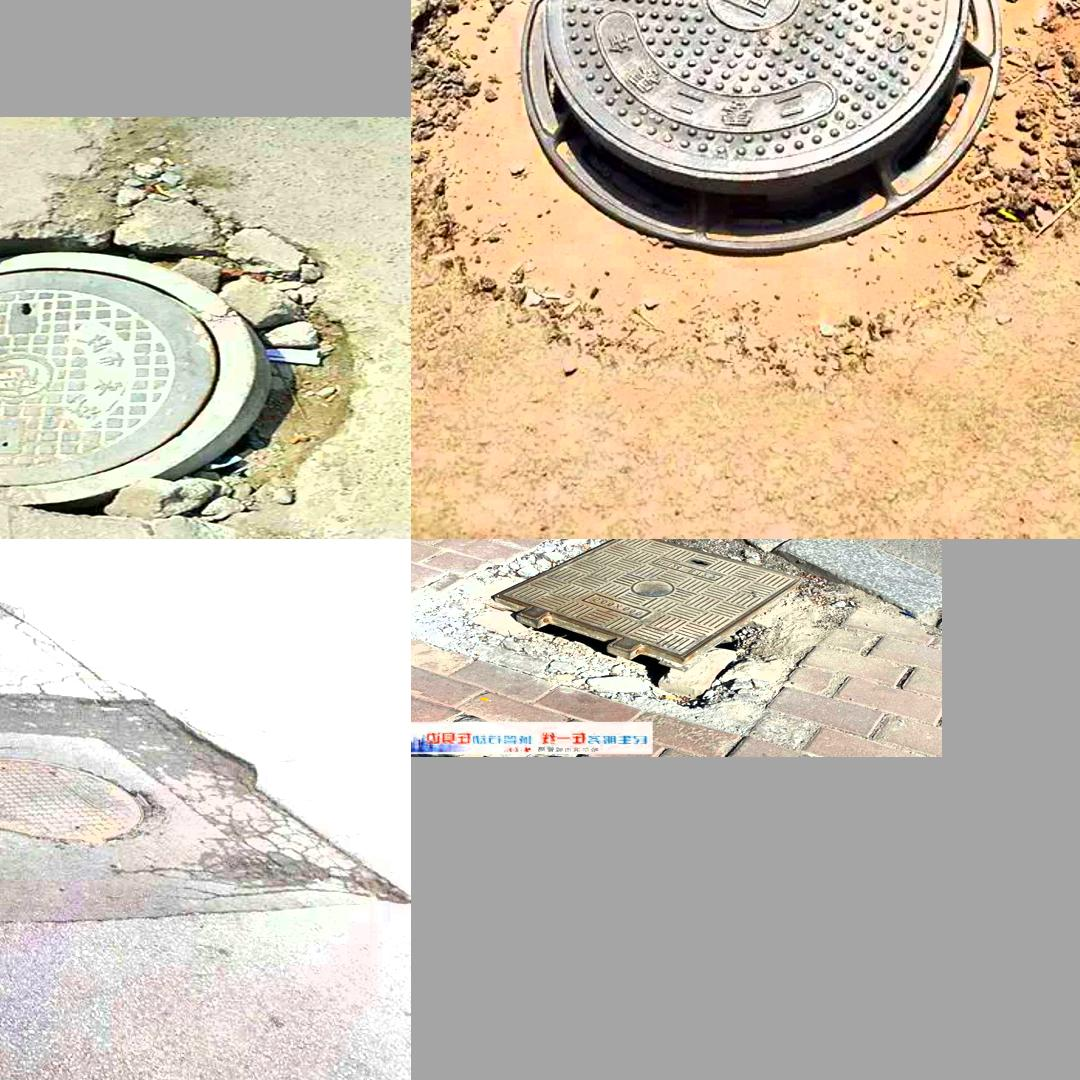circle: (424, 0, 1080, 373), (0, 150, 344, 513), (415, 542, 855, 712), (0, 709, 308, 915)
